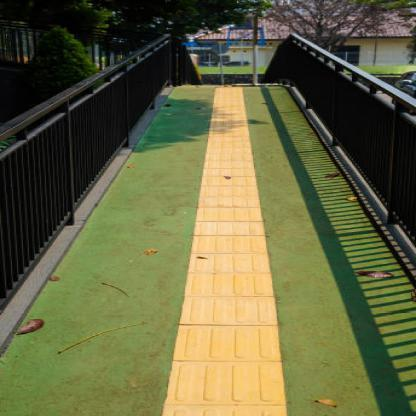podotacti: (164, 87, 287, 415)
